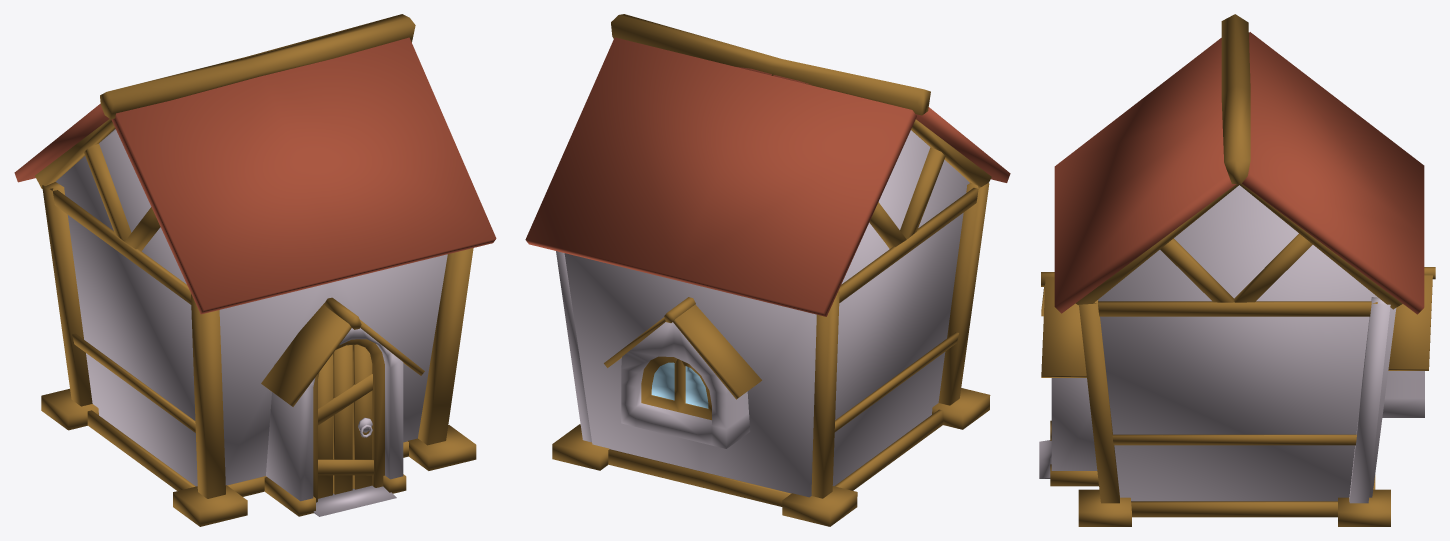
File: house 1.fbx
The picture shows the model from 3 angles, left to right: view 1: azimuth 30°, elevation 25°; view 2: azimuth 150°, elevation 25°; view 3: azimuth 270°, elevation 25°; orthographic projection. The views are drawn at different scales.
Visible parts, largest first — view 1: house; view 2: house; view 3: house.
Boxes of the visible parts, box(x1,y1,x2,y2) form: house: box(14, 14, 496, 526); house: box(525, 14, 1010, 526); house: box(1039, 14, 1435, 526).
Bounding box in the file's own units: 322 × 385 × 369.
